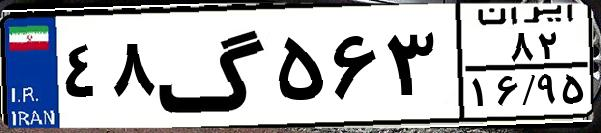1: (470, 70, 495, 125)
2: (537, 27, 568, 80)
3: (385, 28, 445, 110)
4: (57, 26, 110, 100)
5: (270, 28, 330, 110), (560, 70, 590, 125)
6: (330, 28, 385, 110), (495, 70, 520, 125)
8: (110, 28, 156, 98), (508, 27, 537, 80)
9: (535, 70, 560, 125)
گ: (156, 12, 270, 120)
